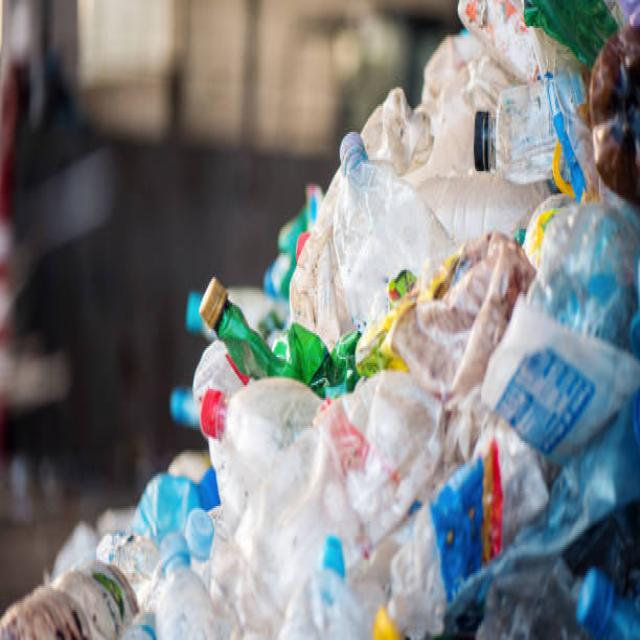plastic: (217, 260, 584, 596), (422, 46, 610, 236)
